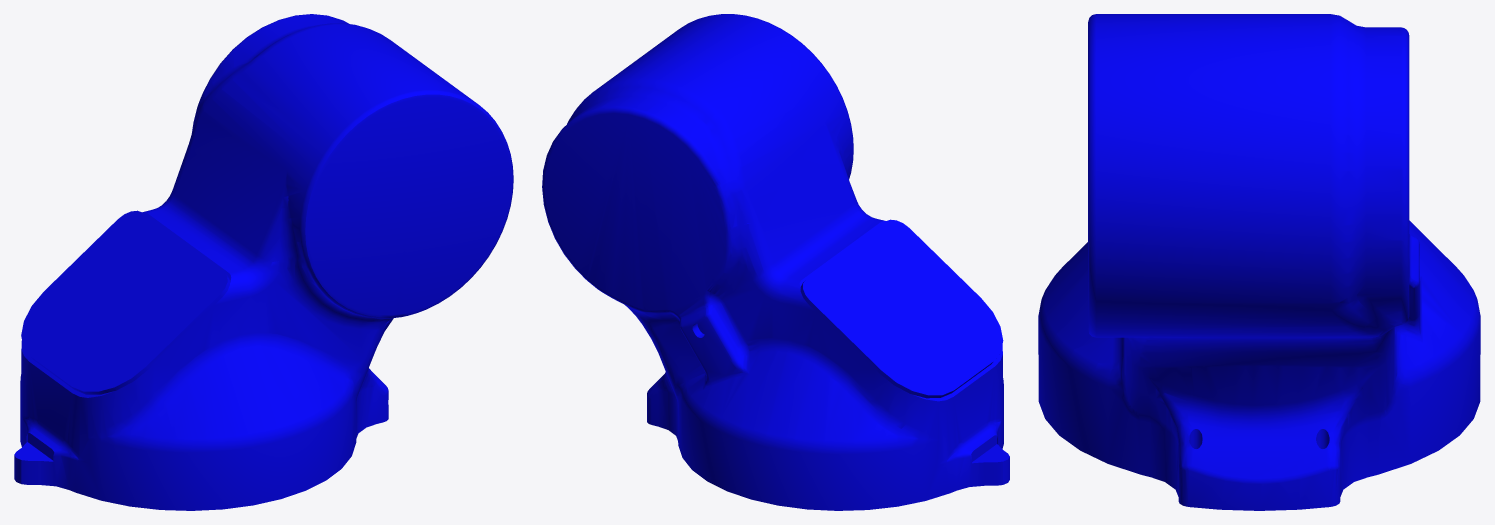
File: MH5L_S_AXIS.dae
The picture shows the model from 3 angles, left to right: view 1: azimuth 30°, elevation 25°; view 2: azimuth 150°, elevation 25°; view 3: azimuth 270°, elevation 25°; orthographic projection. The views are drawn at different scales.
Visible parts, largest first — view 1: node; view 2: node; view 3: node.
Part boxes in pixels (box(x1,y1,x2,y2)): node: box(14, 14, 513, 510); node: box(542, 14, 1009, 510); node: box(1038, 14, 1480, 510).
Bounding box in the file's own units: 0.245 × 0.1639 × 0.1909.
